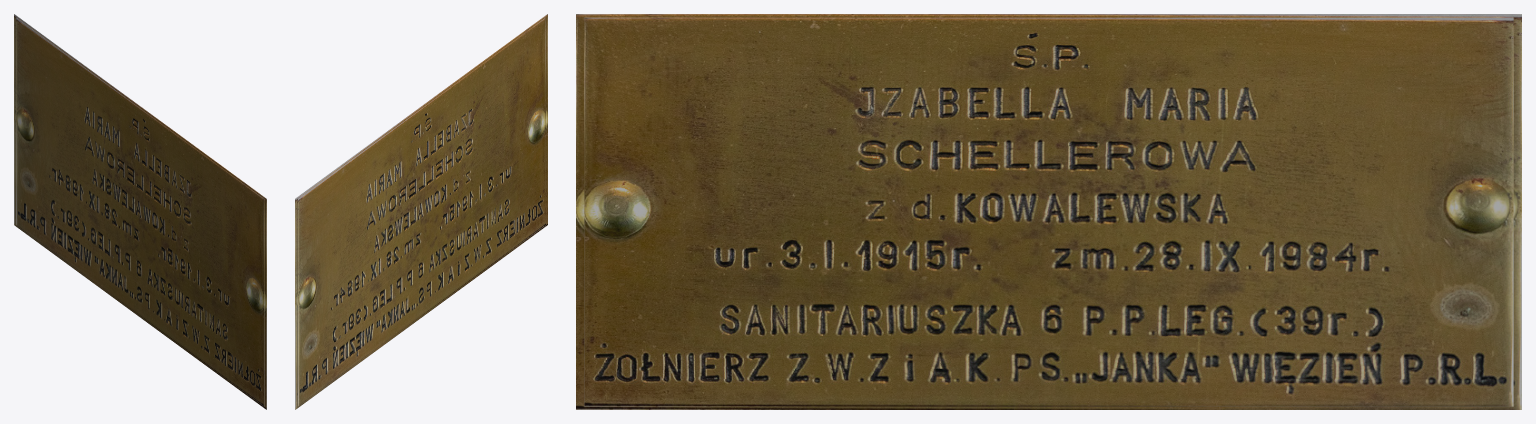
The model's file is 17.  Ś.P. IZABELLA MARIA SCHELLEROWA.glb.
3 renders of one model, left to right at view 1: azimuth 30°, elevation 25°; view 2: azimuth 150°, elevation 25°; view 3: azimuth 270°, elevation 25°, orthographic. The views are drawn at different scales.
Parts seen in each view (by area): view 1: Plane; view 2: Plane; view 3: Plane.
Part boxes in pixels (box(x1,y1,x2,y2)): Plane: box(14, 14, 266, 409); Plane: box(295, 14, 547, 409); Plane: box(576, 14, 1521, 409).
Size of the model in its own units: 0.0246 by 6 by 13.
Materials: 1 (1 with a texture image).
